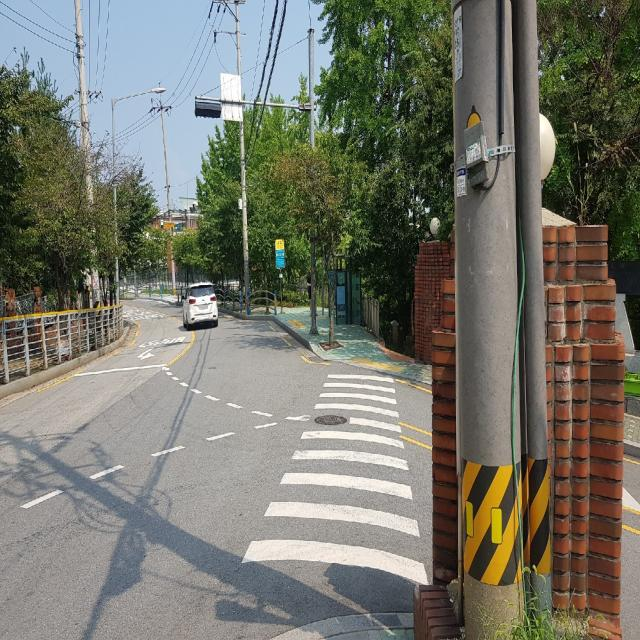횡단보도: (240, 369, 432, 590)
